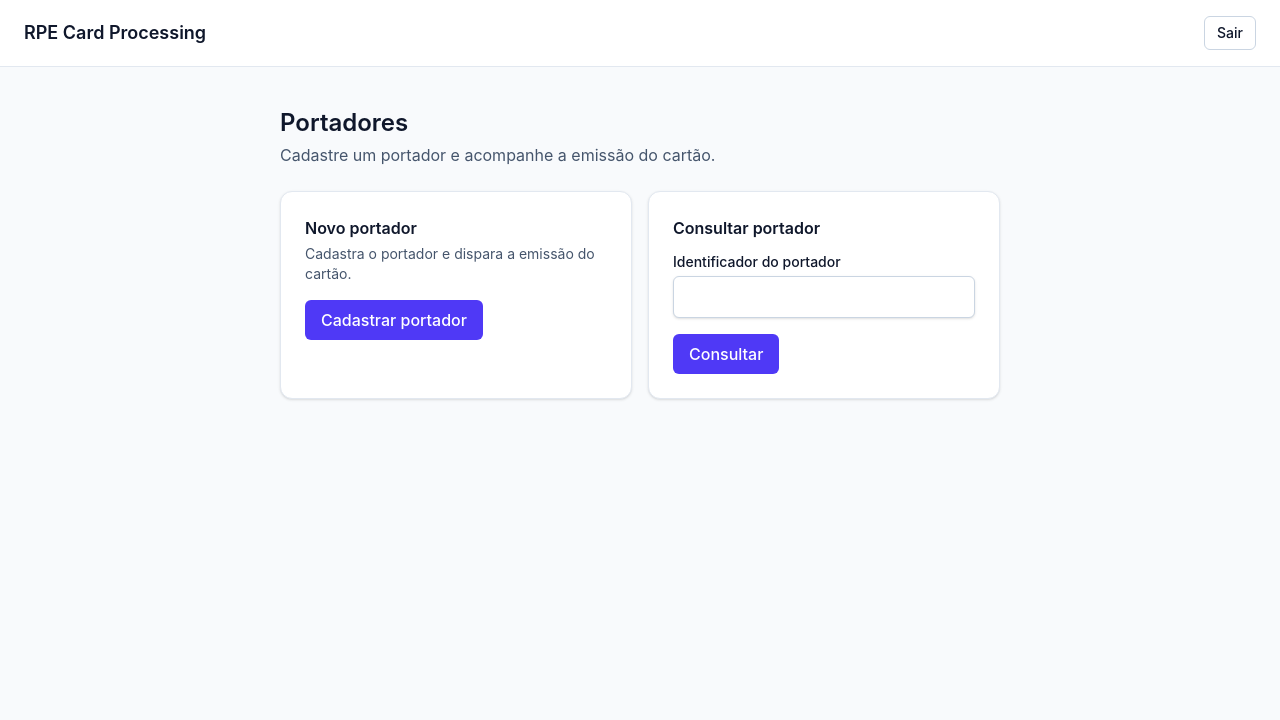
Test: encerramento da sessão › deveVoltarAoLoginSemAvisoQuandoOUsuarioClicaEmSair
Click the button "Sair". click: (1230, 33)
box: [1204,16,1256,50]
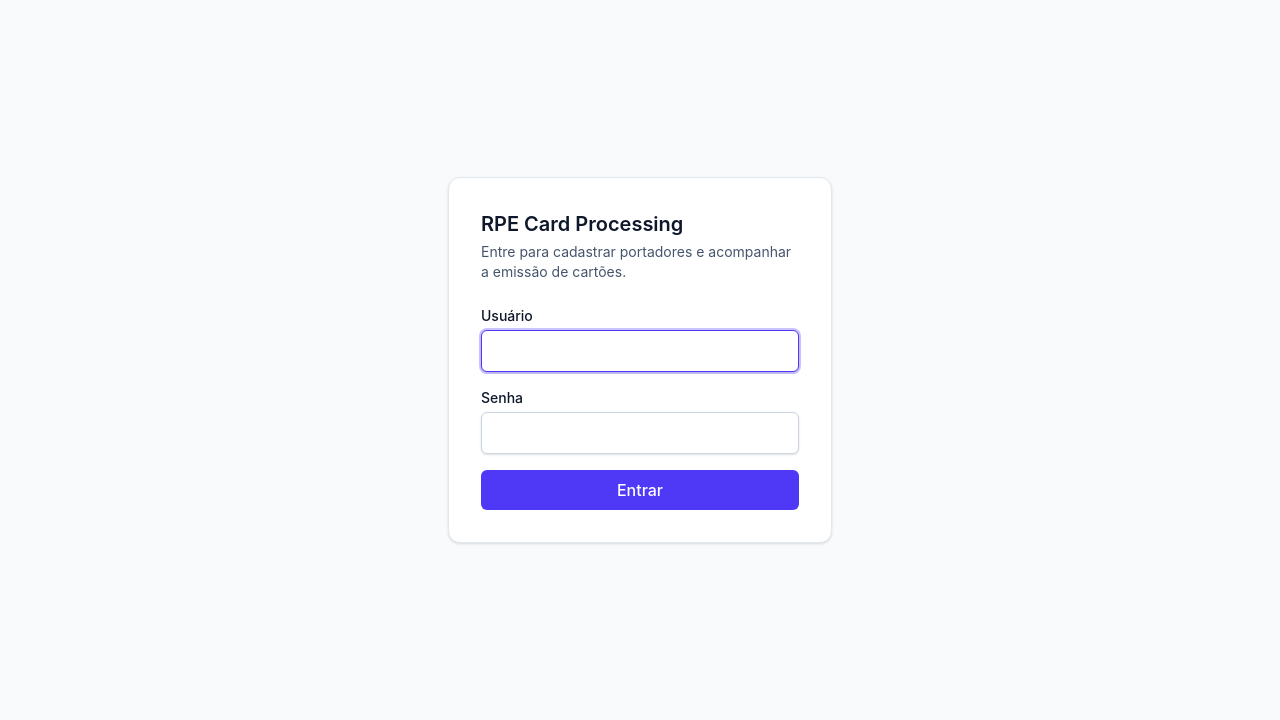
Expected: the field labelled "Usuário" is shown, [481,330,799,372]
